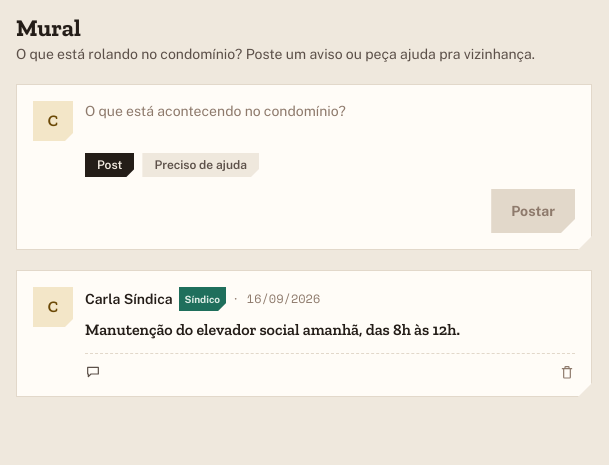
Test case: MuralPage › permite que o autor exclua o próprio post
Expected: the text "Manutenção do elevador social amanhã, das 8h às 12h." is shown, [85,320,460,339]
Click the button named "Excluir post" at [567, 372], box [559,364,575,380]
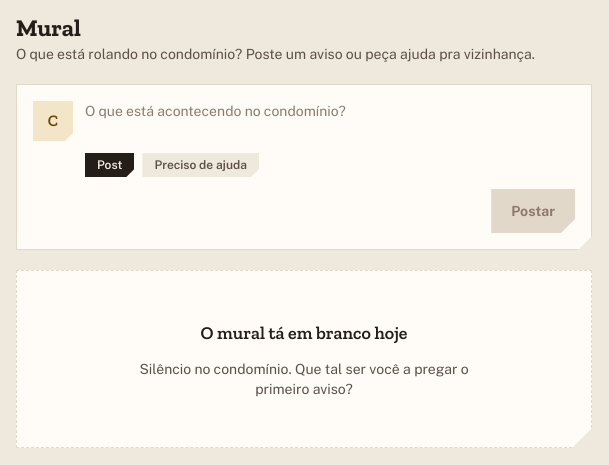
Now the link "Manutenção do elevador social amanhã, das 8h às 12h." is gone
